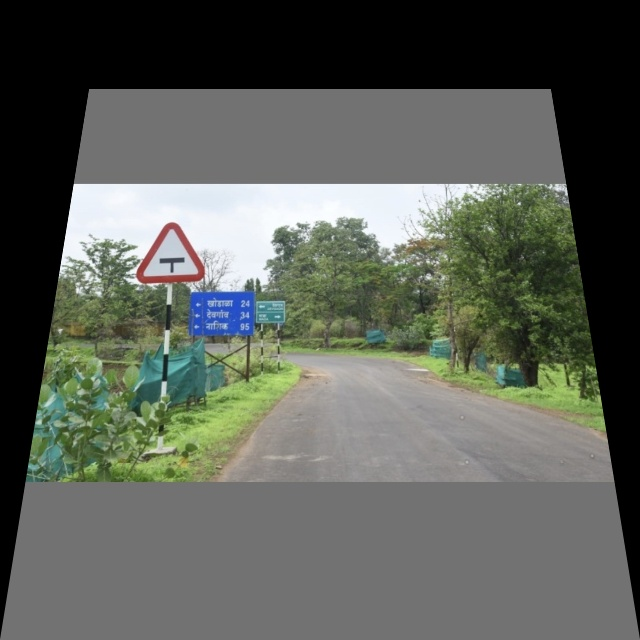T_Intersection: (129, 215, 216, 287)
